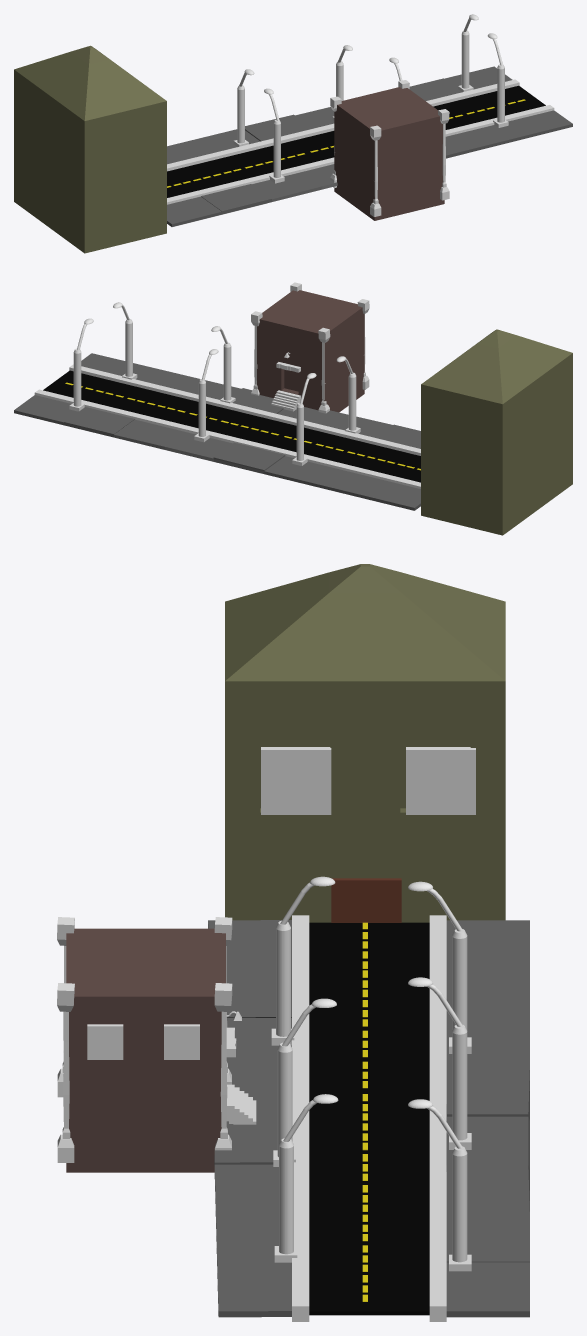
File: MainMenuScene.fbx
3 views of the same model, one above another, from view 1: azimuth 30°, elevation 25°; view 2: azimuth 150°, elevation 25°; view 3: azimuth 270°, elevation 25° (orthographic). The views are drawn at different scales.
Parts seen in each view (by area): view 1: Cube.043, Cube.053, Cube.042, Cube, Cube.041, Cube.039, Cube.040, Cube.052, Cube.050, Cube.047, Cube.049, Cube.064 (+2 smaller); view 2: Cube.043, Cube.053, Cube.041, Cube, Cube.042, Cube.040, Cube.039, Cube.047, Cube.048, Cube.049, Cube.052, Cube.051 (+3 smaller); view 3: Cube.043, Cube, Cube.053, Cube.041, Cube.042, Cube.039, Cube.040, Cube.044, Cube.045, Cube.046, Cube.047, Cube.048 (+8 smaller).
Part boxes in pixels (<box>): Cube.043: <box>14,45,166,253</box>; Cube.053: <box>334,87,444,220</box>; Cube.042: <box>167,110,572,226</box>; Cube: <box>167,85,545,197</box>; Cube.041: <box>167,66,512,164</box>; Cube.039: <box>167,79,519,171</box>; Cube.040: <box>167,105,554,204</box>; Cube.052: <box>264,88,284,183</box>; Cube.050: <box>487,33,508,127</box>; Cube.047: <box>458,14,478,92</box>; Cube.049: <box>233,69,254,146</box>; Cube.064: <box>370,125,381,216</box>; Cube.043: <box>421,329,572,535</box>; Cube.053: <box>257,290,364,412</box>; Cube.041: <box>14,395,420,510</box>; Cube: <box>43,370,420,482</box>; Cube.042: <box>81,353,420,448</box>; Cube.040: <box>69,364,420,455</box>; Cube.039: <box>34,389,420,488</box>; Cube.047: <box>69,318,93,411</box>; Cube.048: <box>194,349,218,442</box>; Cube.049: <box>292,373,316,465</box>; Cube.052: <box>336,356,360,433</box>; Cube.051: <box>211,326,235,403</box>; Cube.043: <box>225,564,505,922</box>; Cube: <box>309,922,429,1315</box>; Cube.053: <box>66,928,225,1172</box>; Cube.041: <box>446,920,529,1317</box>; Cube.042: <box>208,920,291,1317</box>; Cube.039: <box>429,915,446,1321</box>; Cube.040: <box>292,915,309,1321</box>; Cube.044: <box>261,747,331,814</box>; Cube.045: <box>406,747,475,814</box>; Cube.046: <box>331,878,401,922</box>; Cube.047: <box>408,1099,471,1271</box>; Cube.048: <box>408,977,471,1149</box>.
Bounding box in the file's own units: 13301 × 4458 × 5641.
